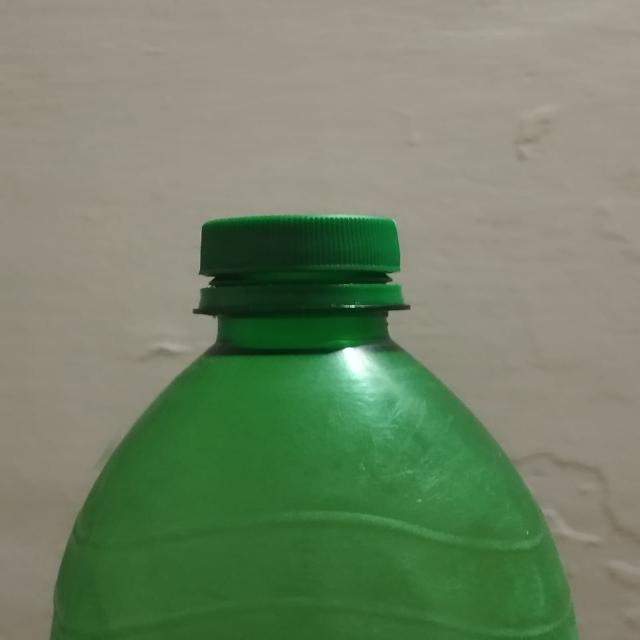cap: (202, 212, 402, 311)
